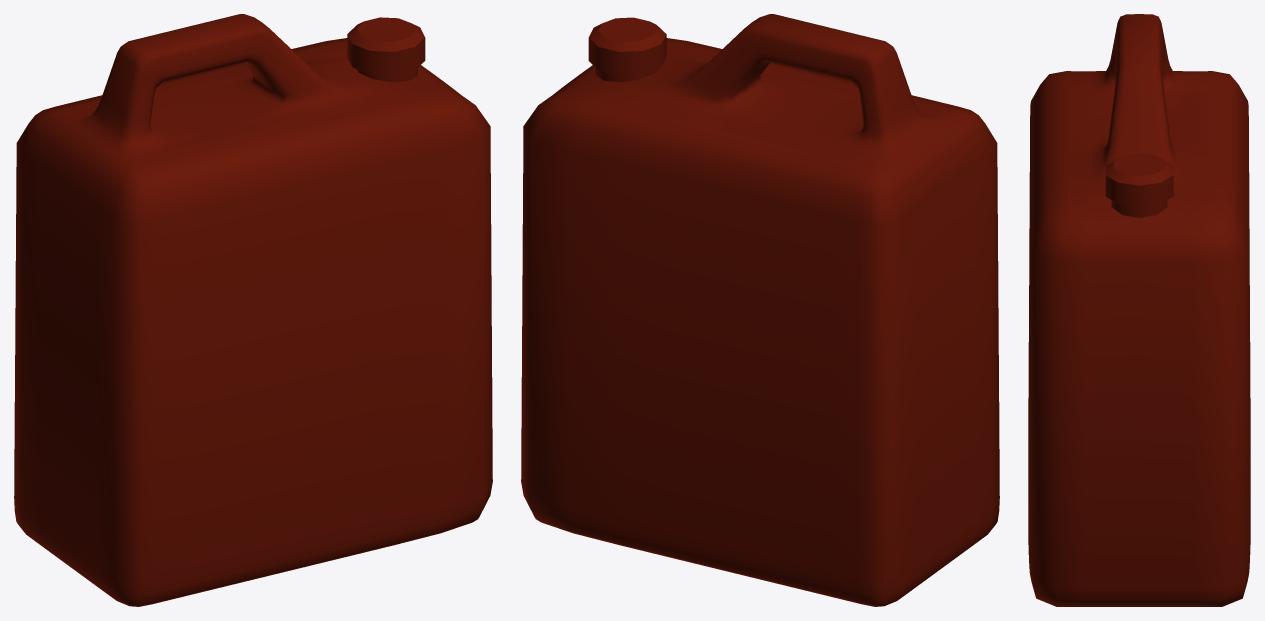
Rendered from canister2.FBX.
3 renders of one model, left to right at view 1: azimuth 30°, elevation 25°; view 2: azimuth 150°, elevation 25°; view 3: azimuth 270°, elevation 25°, orthographic. The views are drawn at different scales.
Visible parts, largest first — view 1: canister2; view 2: canister2; view 3: canister2.
Part boxes in pixels (box(x1,y1,x2,y2)): canister2: box(14, 14, 492, 606); canister2: box(521, 14, 999, 606); canister2: box(1028, 14, 1250, 606).
Size of the model in its own units: 36.61 by 46.73 by 20.25.
